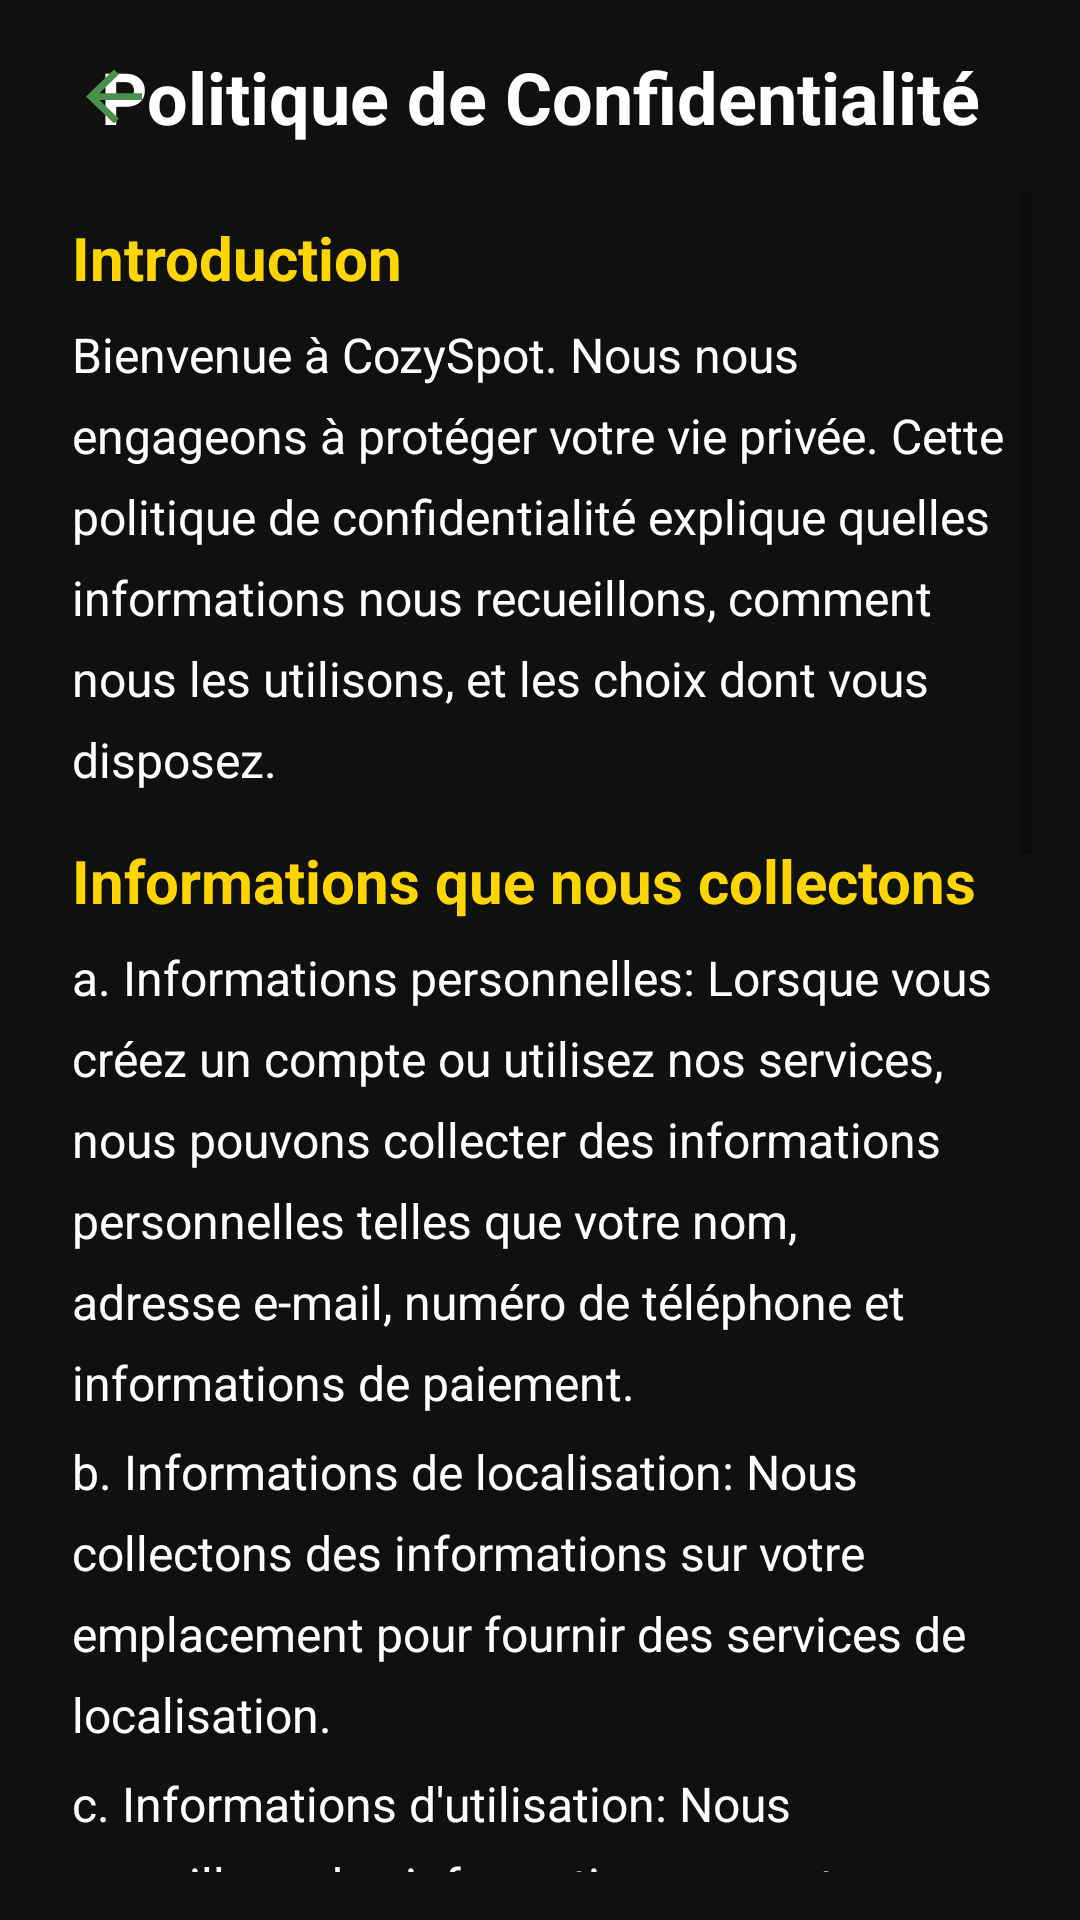

Named icons in this screenshot (1080 × 1920) and their centers, [x,y]:
arrow back: [115,97]
